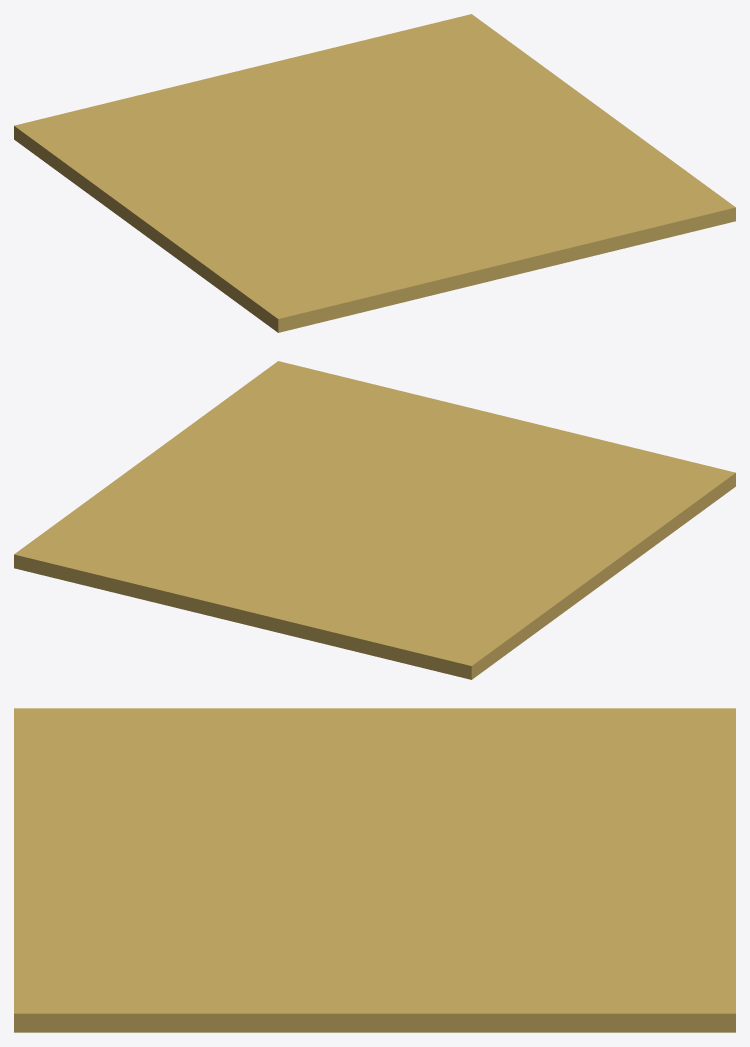
The model's file is SM_ChessBoard.fbx.
3 views of the same model, one above another, from view 1: azimuth 30°, elevation 25°; view 2: azimuth 150°, elevation 25°; view 3: azimuth 270°, elevation 25° (orthographic). The views are drawn at different scales.
Parts seen in each view (by area): view 1: SM_ChessBoard; view 2: SM_ChessBoard; view 3: SM_ChessBoard.
Part boxes in pixels (x1,y1,x2,y2): SM_ChessBoard: [14, 14, 735, 332]; SM_ChessBoard: [14, 361, 735, 679]; SM_ChessBoard: [14, 708, 735, 1032].
Bounding box in the file's own units: 45.01 × 1.3 × 45.01.
